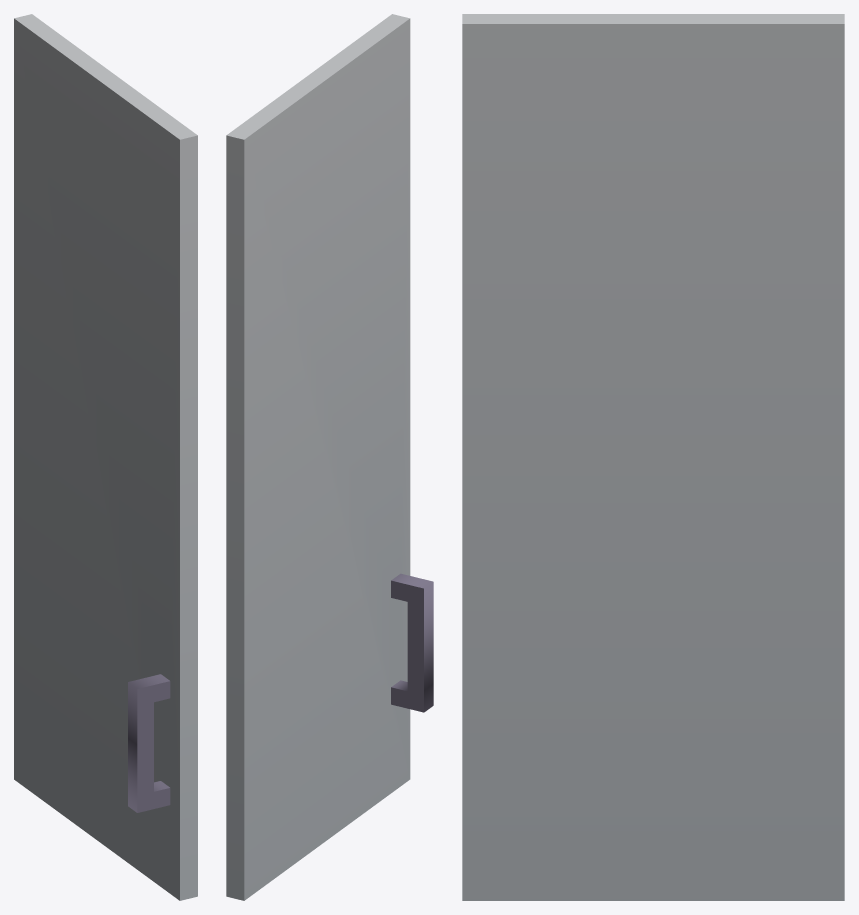
Rendered from (%no-merge) (%open-left) (%low) 15.glb.
3 renders of one model, left to right at view 1: azimuth 30°, elevation 25°; view 2: azimuth 150°, elevation 25°; view 3: azimuth 270°, elevation 25°, orthographic. The views are drawn at different scales.
Visible parts, largest first — view 1: (%no-merge) (%open-left) (%low) 15(Clone); view 2: (%no-merge) (%open-left) (%low) 15(Clone); view 3: (%no-merge) (%open-left) (%low) 15(Clone).
Boxes of the visible parts, x1=… form: (%no-merge) (%open-left) (%low) 15(Clone): x1=14, y1=14, x2=197, y2=900; (%no-merge) (%open-left) (%low) 15(Clone): x1=226, y1=14, x2=433, y2=900; (%no-merge) (%open-left) (%low) 15(Clone): x1=462, y1=14, x2=844, y2=900.
Size of the model in its own units: 0.071 by 1.01 by 0.4.
